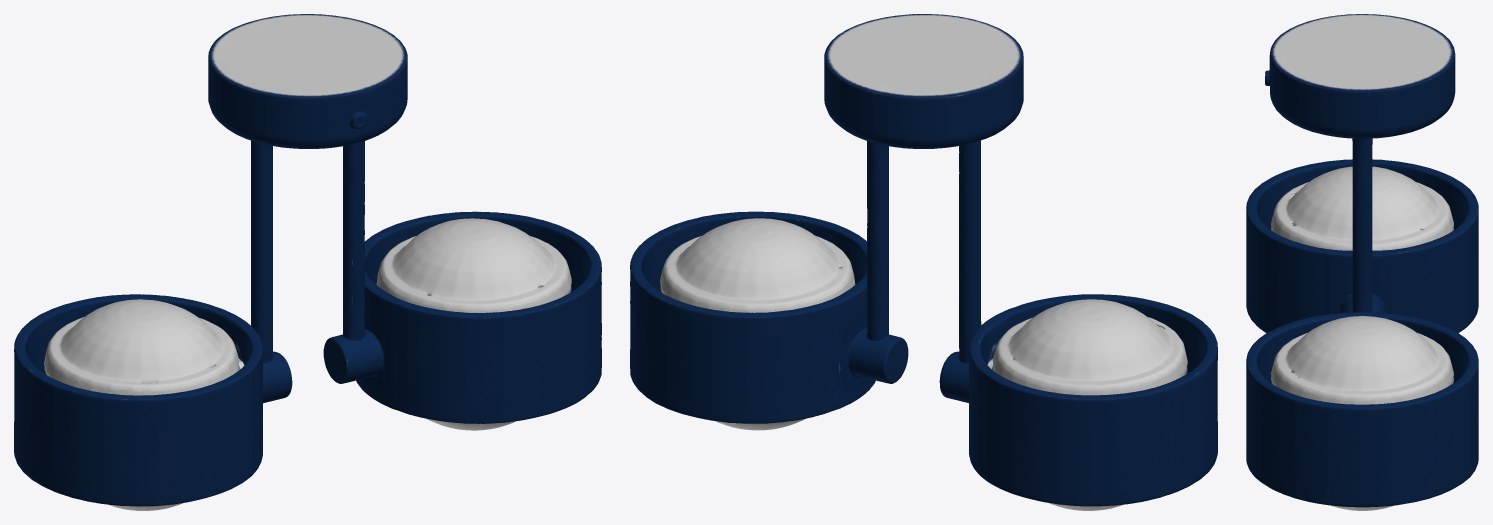
Rendered from Dual-Arm Semi-Flush Mount Ceiling Light with Spherical Diffusers [tFIA4U].glb.
3 views of the same model, side by side, from view 1: azimuth 30°, elevation 25°; view 2: azimuth 150°, elevation 25°; view 3: azimuth 270°, elevation 25° (orthographic). The views are drawn at different scales.
Parts seen in each view (by area): view 1: world; view 2: world; view 3: world.
Part boxes in pixels (x1,y1,x2,y2): world: (14,14,601,510); world: (630,14,1217,510); world: (1246,14,1478,510).
Bounding box in the file's own units: 1 × 0.7015 × 0.3938.
Materials: 1 (1 with a texture image).
